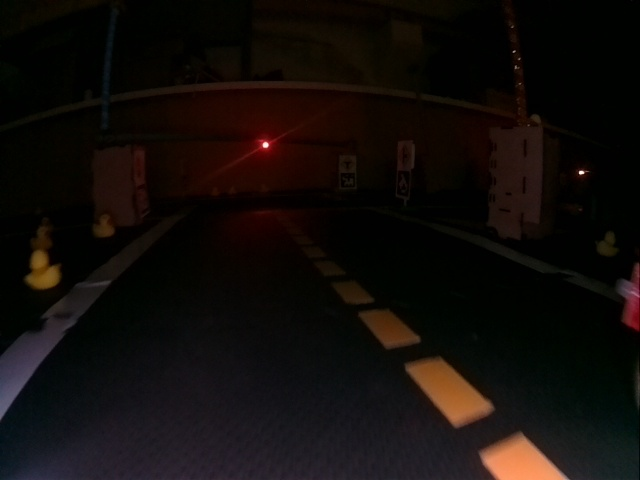Duckie: (28, 252, 61, 290), (93, 216, 115, 238), (32, 227, 52, 250), (599, 232, 617, 256), (260, 184, 269, 193), (227, 186, 236, 195), (211, 188, 219, 195)
Intersection sign: (398, 142, 411, 169), (339, 156, 356, 171)
QR code: (396, 170, 411, 196), (136, 187, 149, 215), (340, 173, 354, 188)
Traffic light: (259, 139, 269, 149)
